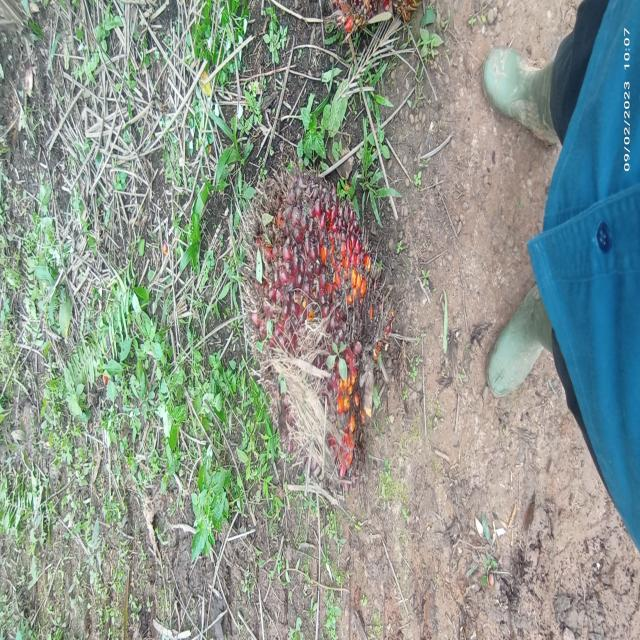fraksi 3: (198, 136, 406, 467)
